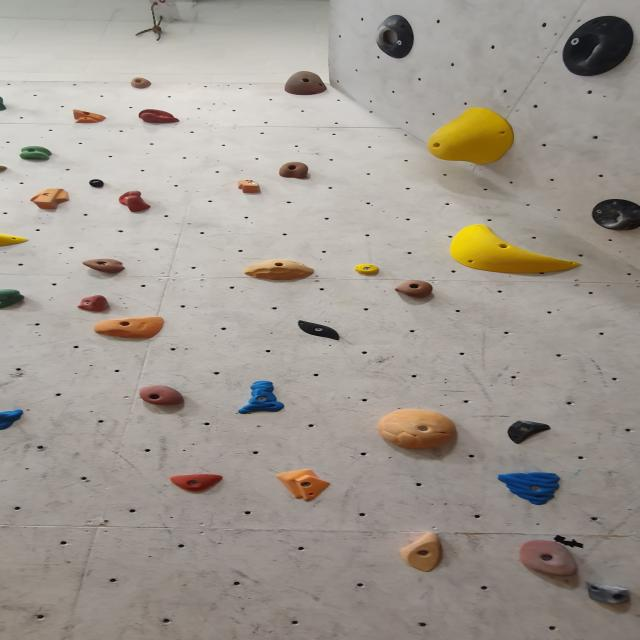Crimp: (496, 474, 564, 506), (505, 420, 552, 443), (168, 476, 227, 494), (139, 109, 182, 125), (0, 411, 26, 433), (70, 109, 108, 124), (352, 265, 381, 278)
Jug: (515, 541, 579, 579), (283, 71, 329, 97), (137, 387, 189, 408), (393, 280, 438, 300), (118, 192, 153, 215), (82, 258, 128, 274), (76, 295, 112, 313), (278, 163, 312, 181), (0, 289, 27, 310), (17, 146, 52, 162), (130, 77, 154, 89)
Pinch: (398, 534, 447, 575), (237, 380, 286, 414), (582, 583, 639, 605), (29, 189, 73, 212), (236, 179, 266, 197), (88, 179, 108, 189)
Pocket: (558, 18, 636, 81), (375, 14, 418, 60), (588, 201, 639, 233)
Sloper: (448, 225, 582, 274), (427, 111, 519, 170), (377, 410, 462, 453), (92, 316, 168, 341), (274, 470, 332, 502), (243, 261, 318, 284), (0, 202, 31, 248), (295, 320, 343, 341)
